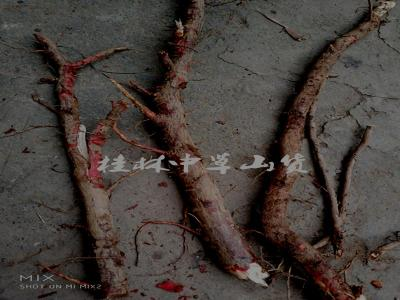Root: (134, 0, 263, 284), (36, 35, 128, 297), (278, 0, 396, 158), (262, 159, 359, 300)
